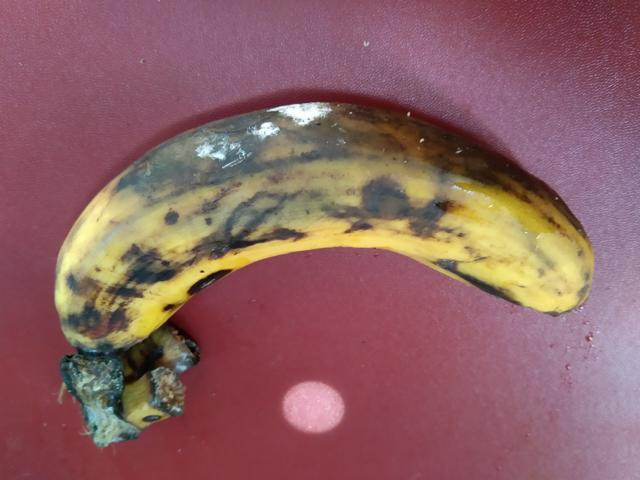rotten: (44, 75, 607, 354)
